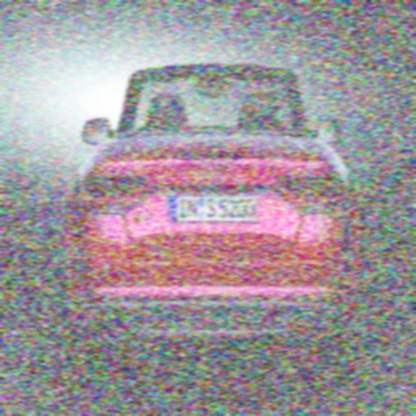Vehicle: (64, 64, 362, 394)
